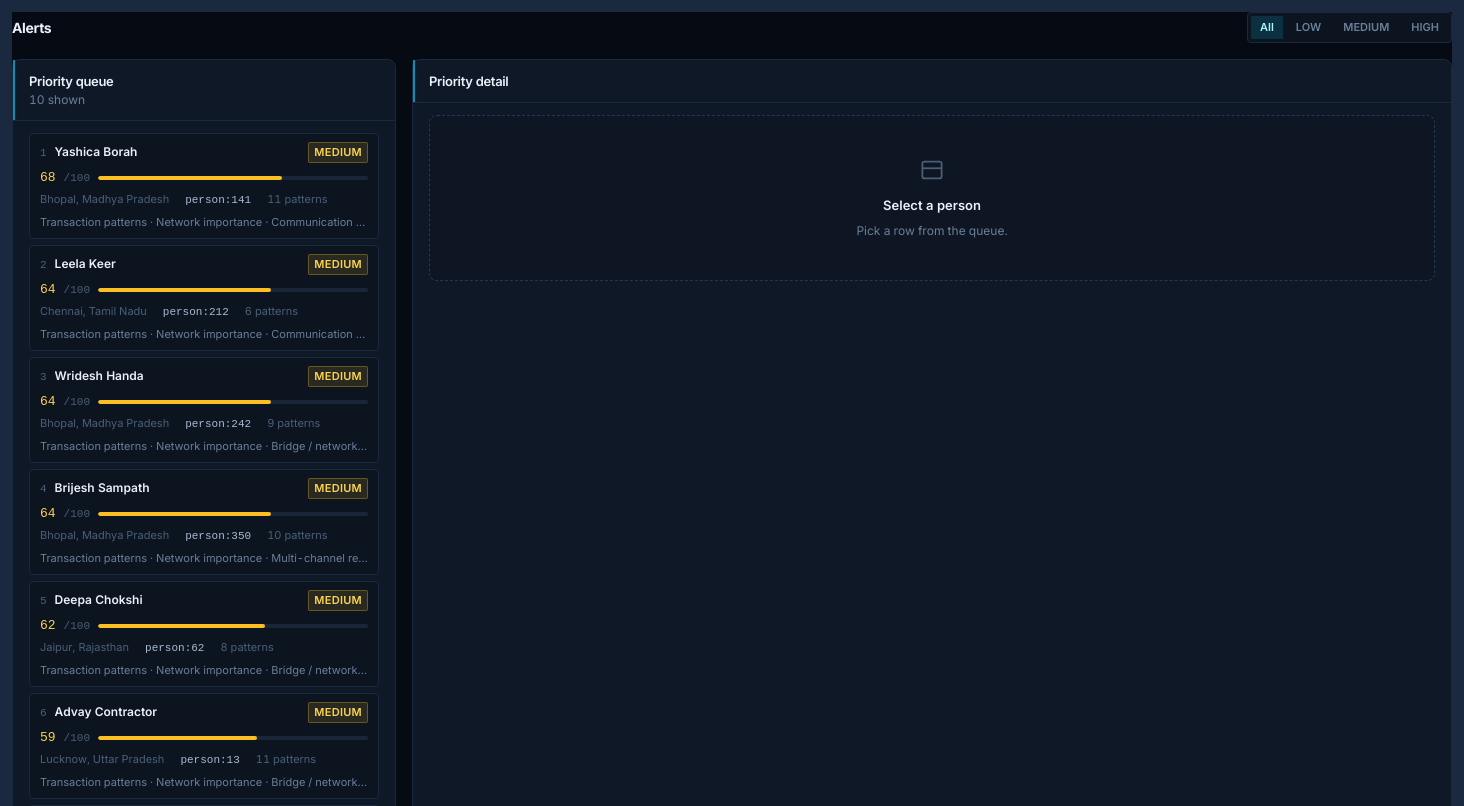
Test: AlertsPage — the pattern pair › keeps the pattern list corpus-wide, not scoped to the selected person
Click the button with test id "queue-row" that starts with "Leela Keer" at (85, 264), box [29,245,379,351]
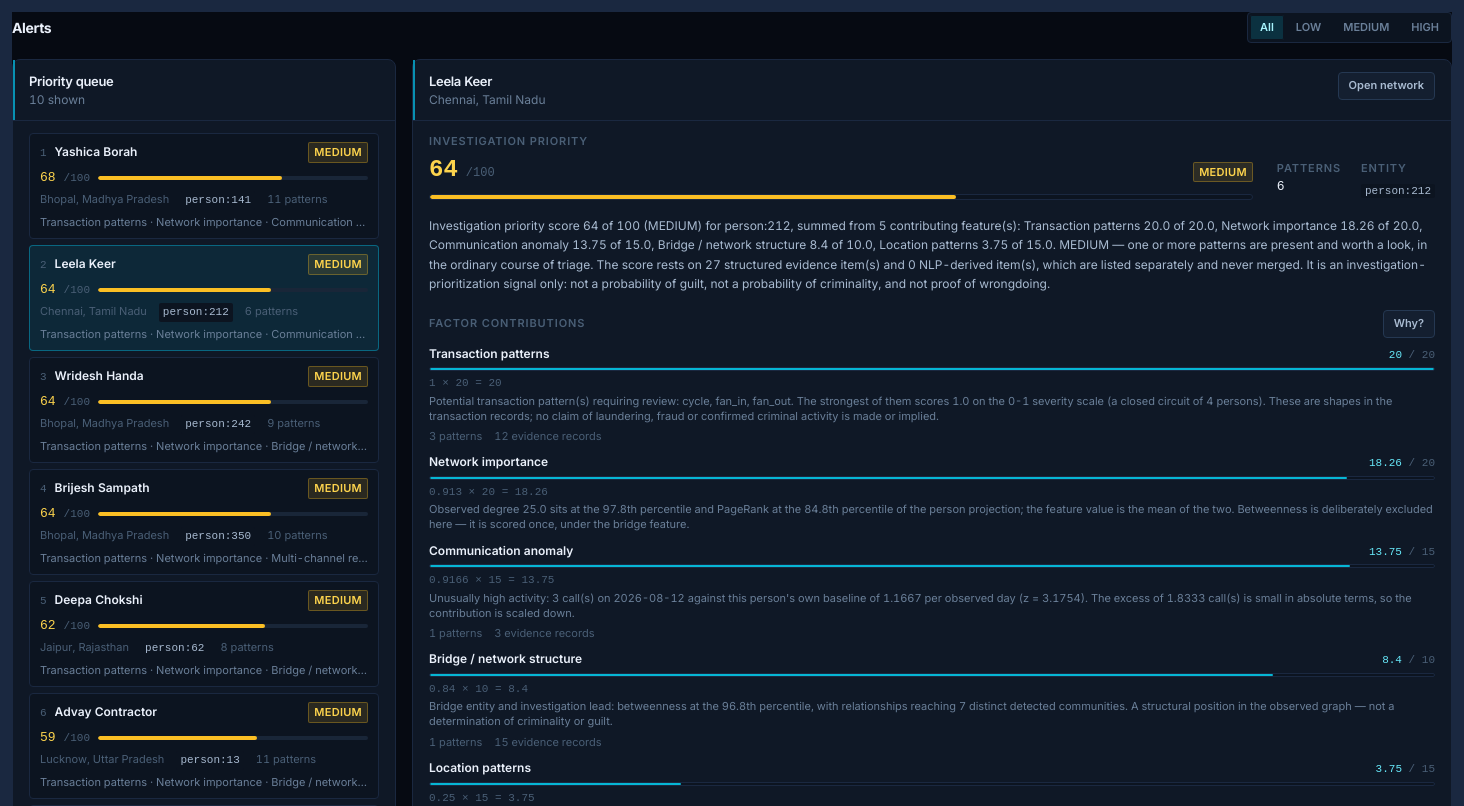
Expected: the heading "Leela Keer" is shown, [429,72,492,88]
